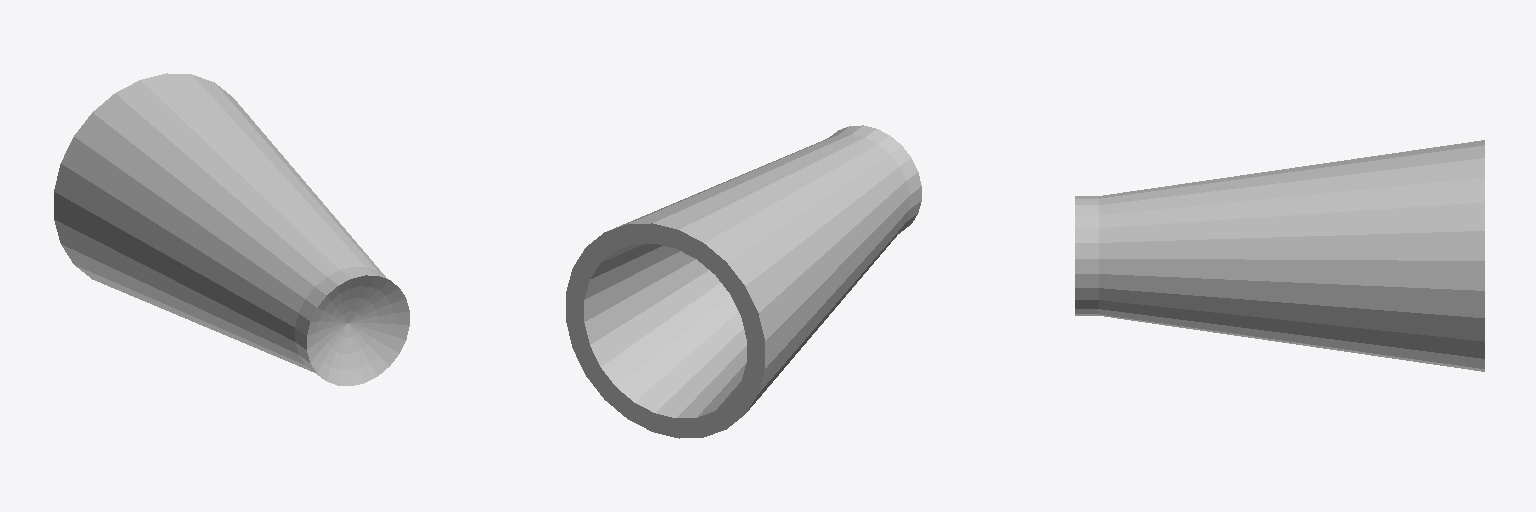
The model's file is cup_0004_origin_obbtransform.obj.
The picture shows the model from 3 angles: view 1: azimuth 30°, elevation 25°; view 2: azimuth 150°, elevation 25°; view 3: azimuth 270°, elevation 25°; orthographic projection.
Size of the model in its own units: 0.0843 by 0.0843 by 0.15.